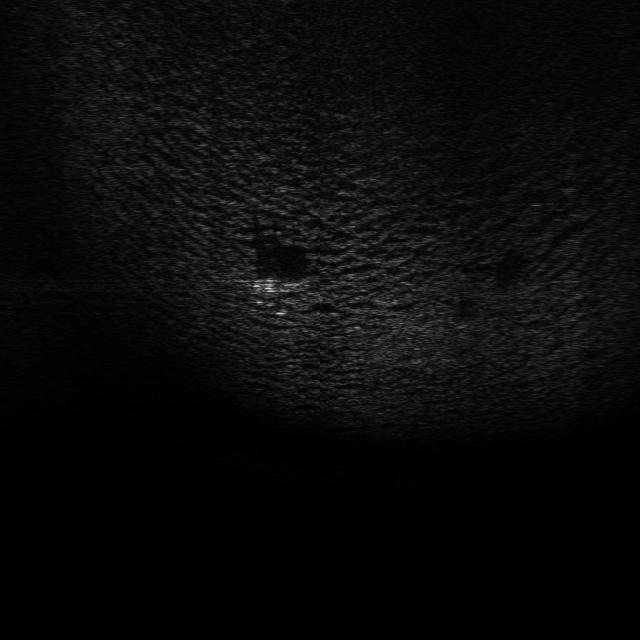plane: (248, 275, 313, 298)
